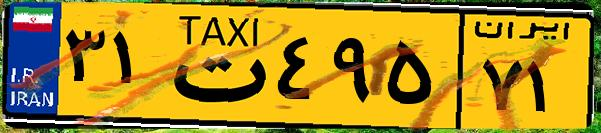1: (525, 38, 570, 115), (110, 28, 158, 98)
3: (57, 26, 110, 100)
4: (270, 28, 330, 110)
5: (385, 28, 445, 110)
7: (475, 38, 525, 113)
9: (330, 28, 385, 110)
ت: (158, 12, 270, 120)
